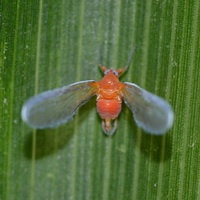insect: (21, 66, 173, 134)
